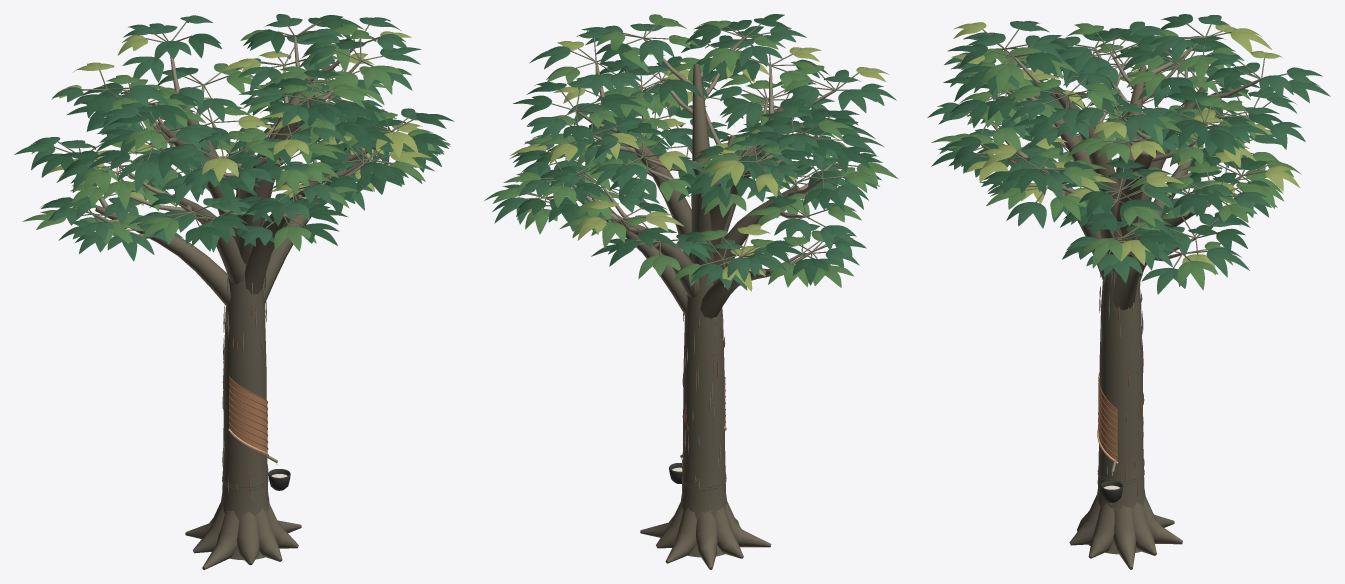
The picture shows the model from 3 angles, left to right: view 1: azimuth 30°, elevation 25°; view 2: azimuth 150°, elevation 25°; view 3: azimuth 270°, elevation 25°; orthographic projection. The views are drawn at different scales.
Parts seen in each view (by area): view 1: Leaflets, Crown wood, Trunk, Tapping cut, Bark marks, Cup hardware; view 2: Leaflets, Crown wood, Trunk, Bark marks; view 3: Leaflets, Trunk, Crown wood, Tapping cut, Bark marks, Cup hardware.
Part boxes in pixels (left/top/right/bottom): Leaflets: left=14, top=14, right=453, bottom=261; Crown wood: left=55, top=21, right=416, bottom=306; Trunk: left=185, top=263, right=301, bottom=569; Tapping cut: left=228, top=376, right=268, bottom=457; Bark marks: left=220, top=272, right=269, bottom=505; Cup hardware: left=222, top=455, right=290, bottom=490; Leaflets: left=484, top=14, right=898, bottom=291; Crown wood: left=525, top=23, right=861, bottom=318; Trunk: left=640, top=257, right=771, bottom=569; Bark marks: left=681, top=283, right=726, bottom=515; Leaflets: left=927, top=14, right=1330, bottom=294; Trunk: left=1069, top=253, right=1182, bottom=569; Crown wood: left=966, top=23, right=1287, bottom=310; Tapping cut: left=1097, top=372, right=1118, bottom=463; Bark marks: left=1097, top=270, right=1144, bottom=506; Cup hardware: left=1097, top=459, right=1144, bottom=502.
Size of the model in its own units: 4.14 by 5.13 by 3.74.
